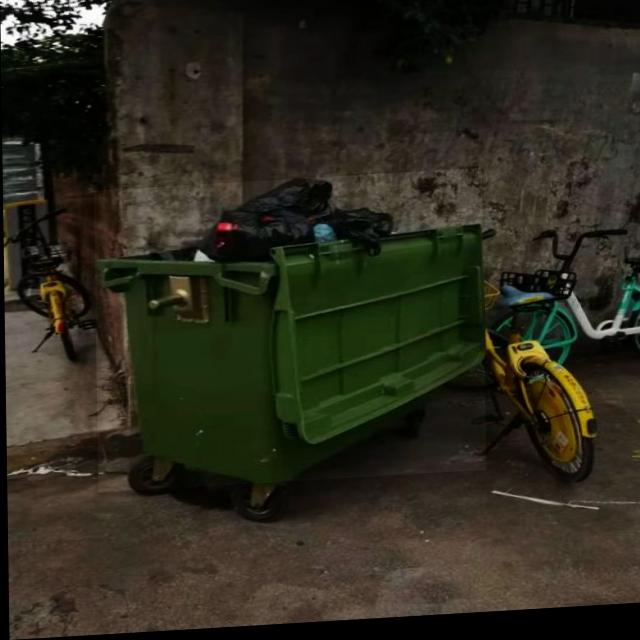overflow: (93, 174, 485, 494)
